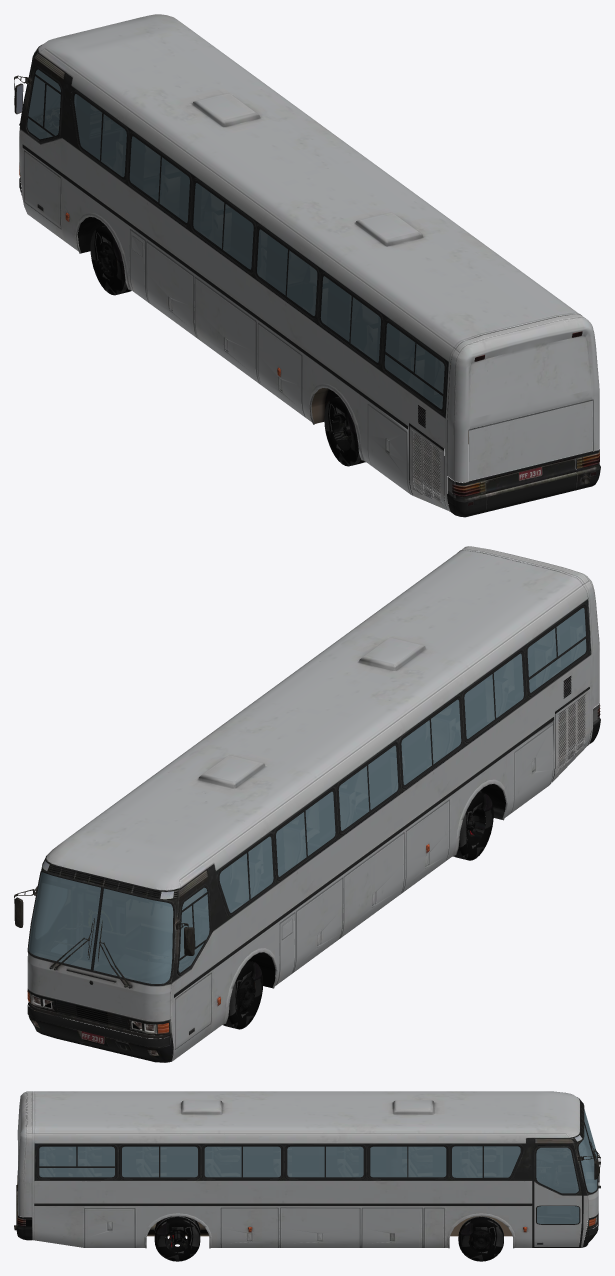
File: bus-full.glb
The picture shows the model from 3 angles, top to bottom: view 1: azimuth 30°, elevation 25°; view 2: azimuth 150°, elevation 25°; view 3: azimuth 270°, elevation 25°; orthographic projection. The views are drawn at different scales.
Parts seen in each view (by area): view 1: paint-atlas, glass, atlas-e6b5309a; view 2: paint-atlas, glass, atlas-e6b5309a; view 3: paint-atlas, glass, atlas-e6b5309a.
Boxes of the visible parts, left/top/right/bottom form: paint-atlas: left=14, top=14, right=600, bottom=517; glass: left=27, top=69, right=444, bottom=409; atlas-e6b5309a: left=77, top=217, right=559, bottom=500; paint-atlas: left=14, top=546, right=600, bottom=1062; glass: left=28, top=608, right=586, bottom=983; atlas-e6b5309a: left=29, top=676, right=584, bottom=1029; paint-atlas: left=14, top=1091, right=600, bottom=1248; glass: left=39, top=1109, right=597, bottom=1223; atlas-e6b5309a: left=147, top=1180, right=584, bottom=1261.
Bounding box in the file's own units: 2.59 × 3.1 × 12.2.
3 materials, 2 textured.
